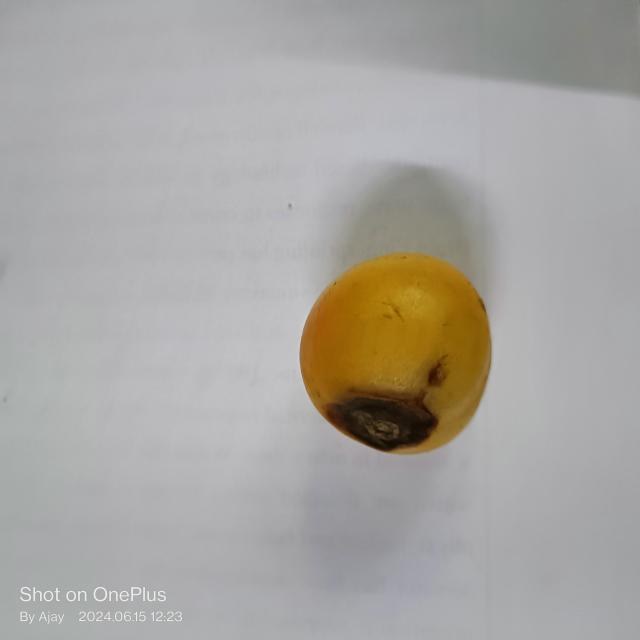Anthrocnose: (317, 351, 450, 451)
